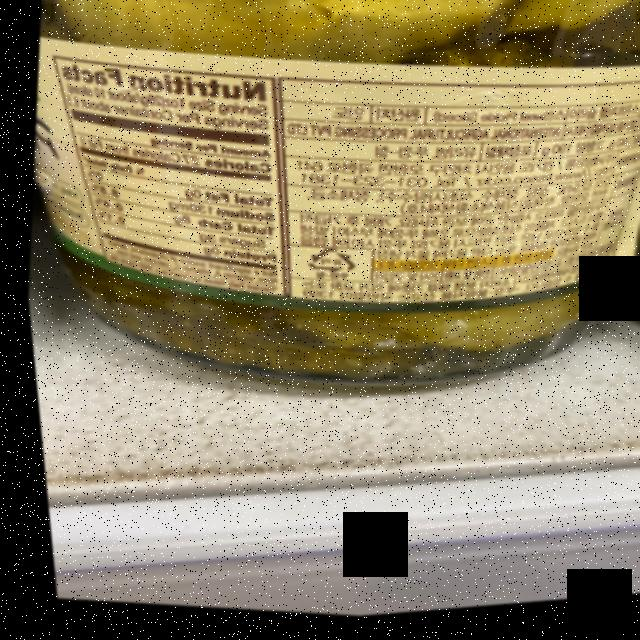Glass: (299, 247, 355, 283)
